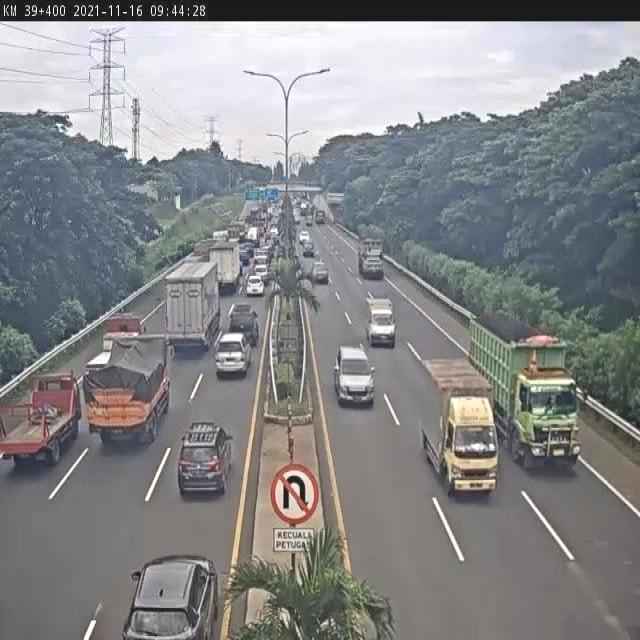Car: (120, 553, 219, 640), (176, 421, 233, 496), (333, 344, 376, 406), (214, 331, 252, 377), (229, 305, 259, 346), (310, 260, 330, 285), (245, 275, 265, 297), (252, 262, 269, 284), (238, 247, 250, 266), (302, 240, 315, 257), (298, 230, 310, 245), (243, 240, 254, 256), (293, 214, 301, 226), (305, 216, 313, 226)
Truck: (468, 314, 584, 469), (417, 356, 500, 499), (83, 332, 171, 447), (0, 367, 82, 469), (163, 261, 221, 356), (84, 314, 148, 374), (364, 295, 398, 349), (208, 241, 241, 296), (357, 235, 386, 280), (246, 226, 261, 247), (226, 224, 241, 244), (253, 223, 265, 240), (212, 230, 229, 242), (315, 209, 325, 224), (300, 200, 308, 216)
